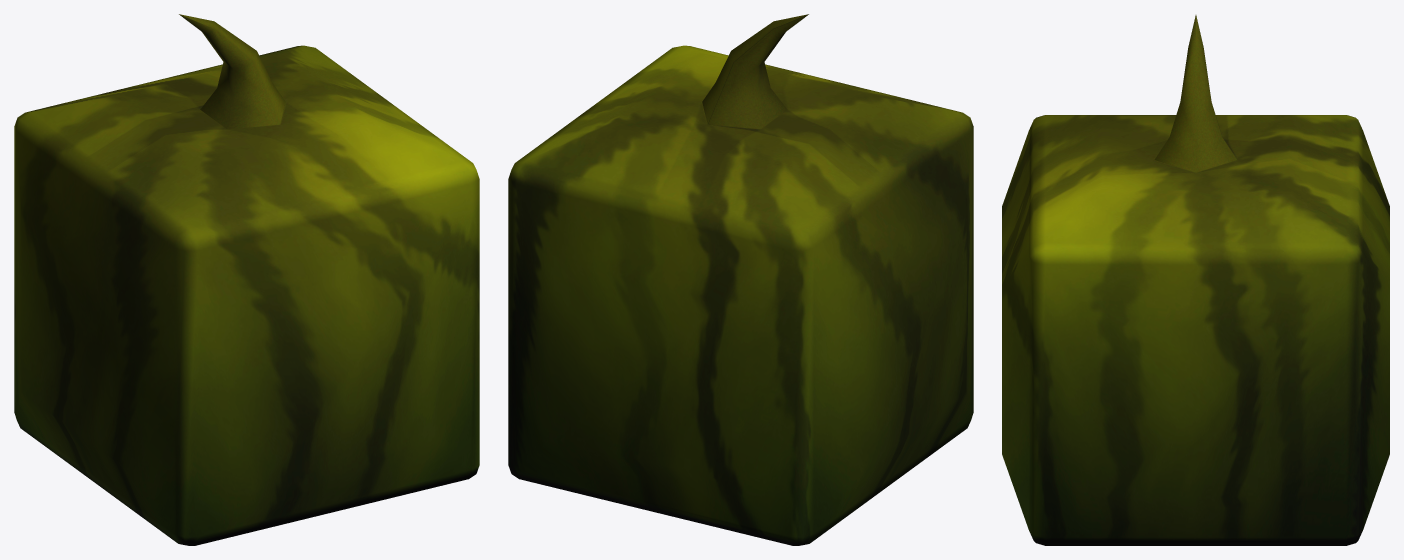
The model's file is melon_block.fbx.
The picture shows the model from 3 angles, left to right: view 1: azimuth 30°, elevation 25°; view 2: azimuth 150°, elevation 25°; view 3: azimuth 270°, elevation 25°; orthographic projection. The views are drawn at different scales.
Visible parts, largest first — view 1: BoxMelon; view 2: BoxMelon; view 3: BoxMelon.
Boxes of the visible parts, x1,y1,x2,y2 form: BoxMelon: [14, 14, 479, 545]; BoxMelon: [508, 14, 973, 545]; BoxMelon: [1002, 15, 1389, 545].
Size of the model in its own units: 11.6 by 14.39 by 11.6.
